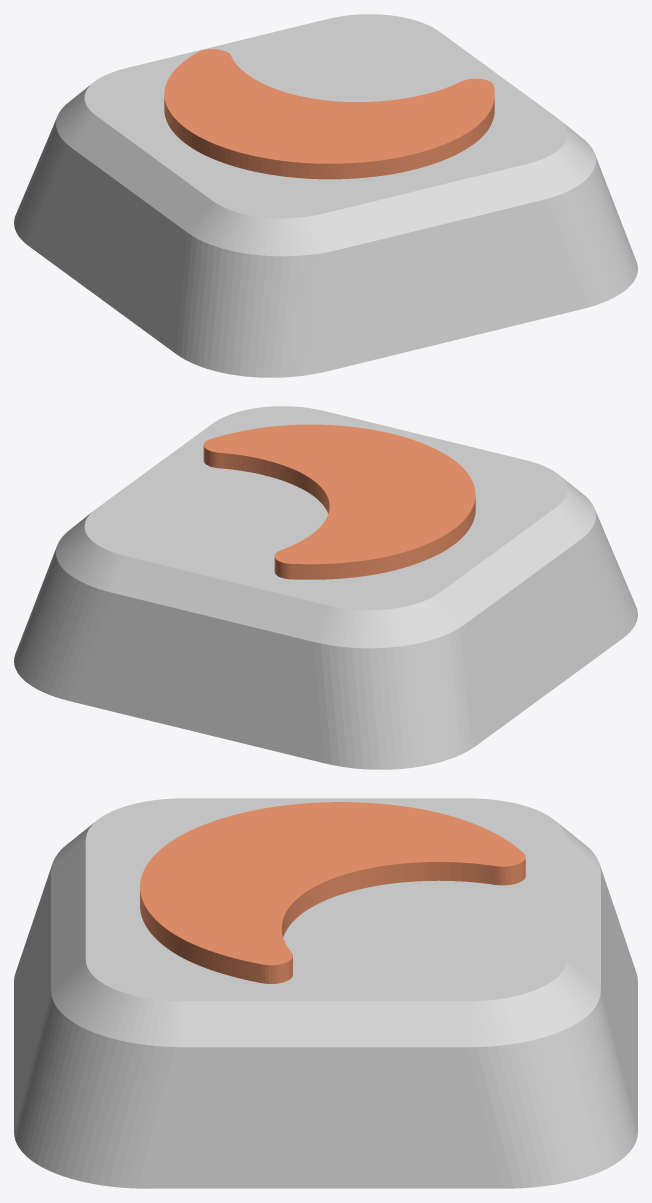
Rendered from cap-moon.glb.
The picture shows the model from 3 angles, top to bottom: view 1: azimuth 30°, elevation 25°; view 2: azimuth 150°, elevation 25°; view 3: azimuth 270°, elevation 25°; orthographic projection. The views are drawn at different scales.
Parts seen in each view (by area): view 1: cap_0, glyph_1; view 2: cap_0, glyph_1; view 3: cap_0, glyph_1.
Boxes of the visible parts, x1,y1,x2,y2 form: cap_0: (14, 14, 637, 377); glyph_1: (164, 49, 494, 179); cap_0: (14, 406, 637, 769); glyph_1: (203, 424, 475, 579); cap_0: (14, 798, 637, 1188); glyph_1: (140, 802, 525, 983).
Size of the model in its own units: 18 by 5.6 by 18.
